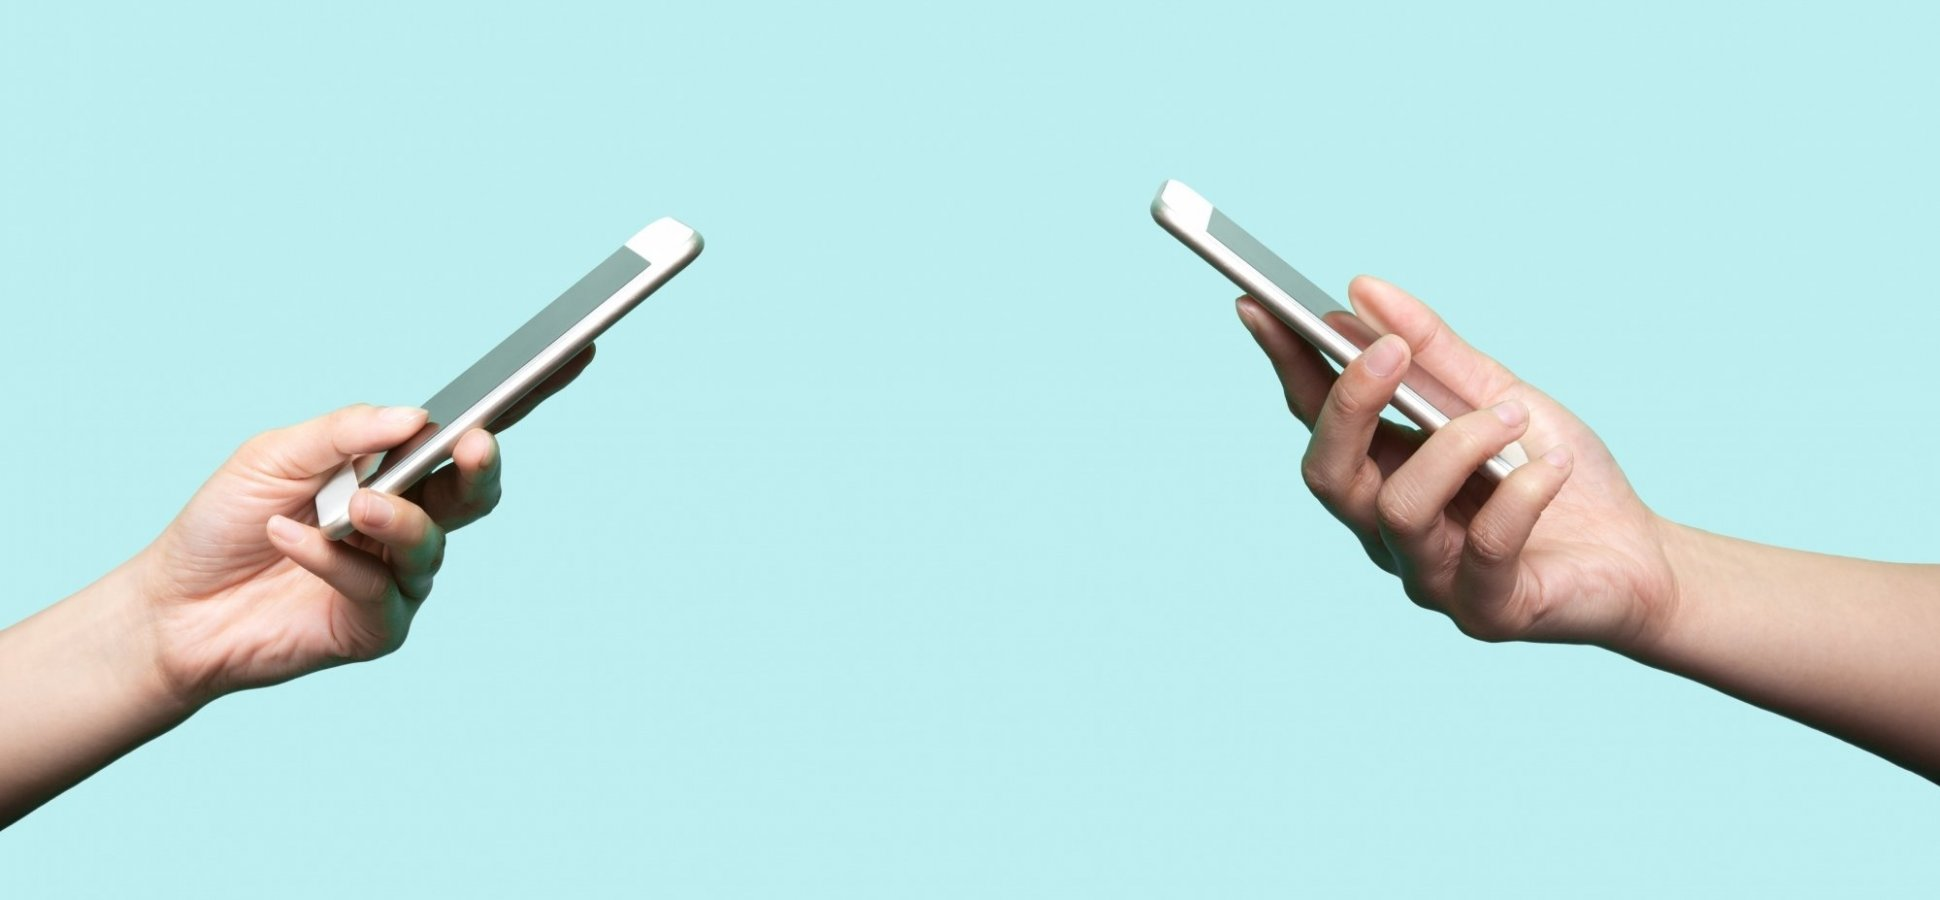phone: (1128, 163, 1558, 505), (294, 206, 710, 552)
